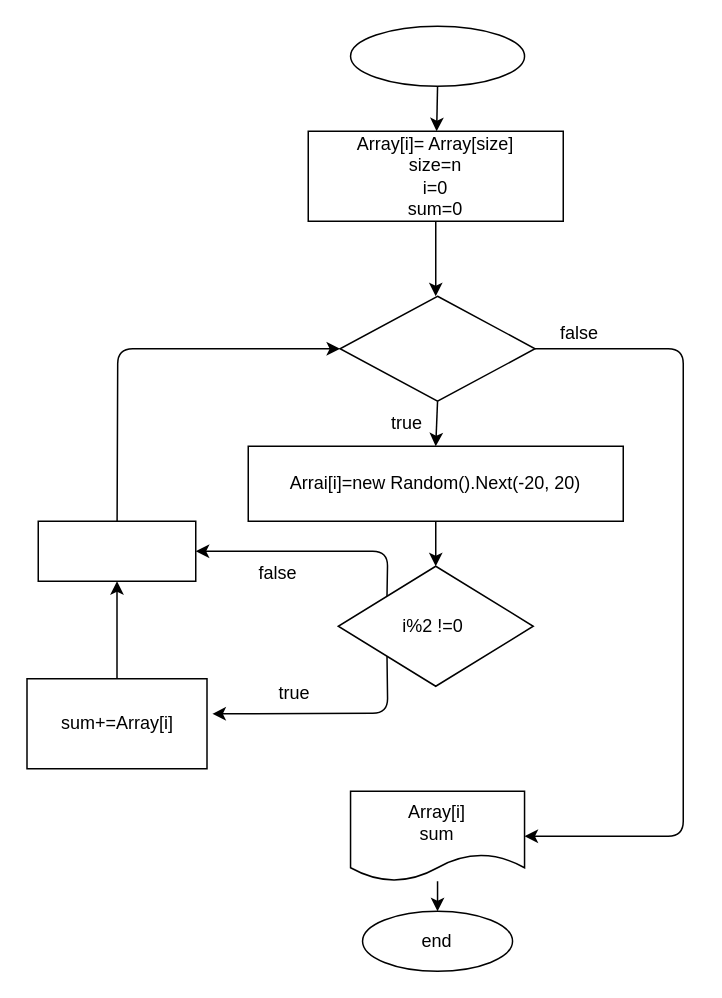
Image size: 722x998. Some labels were removed from this diagram. Each missing label, with the centre of its shape:
i < size: point (437, 348)
i++: point (116, 550)
start: point (437, 55)
